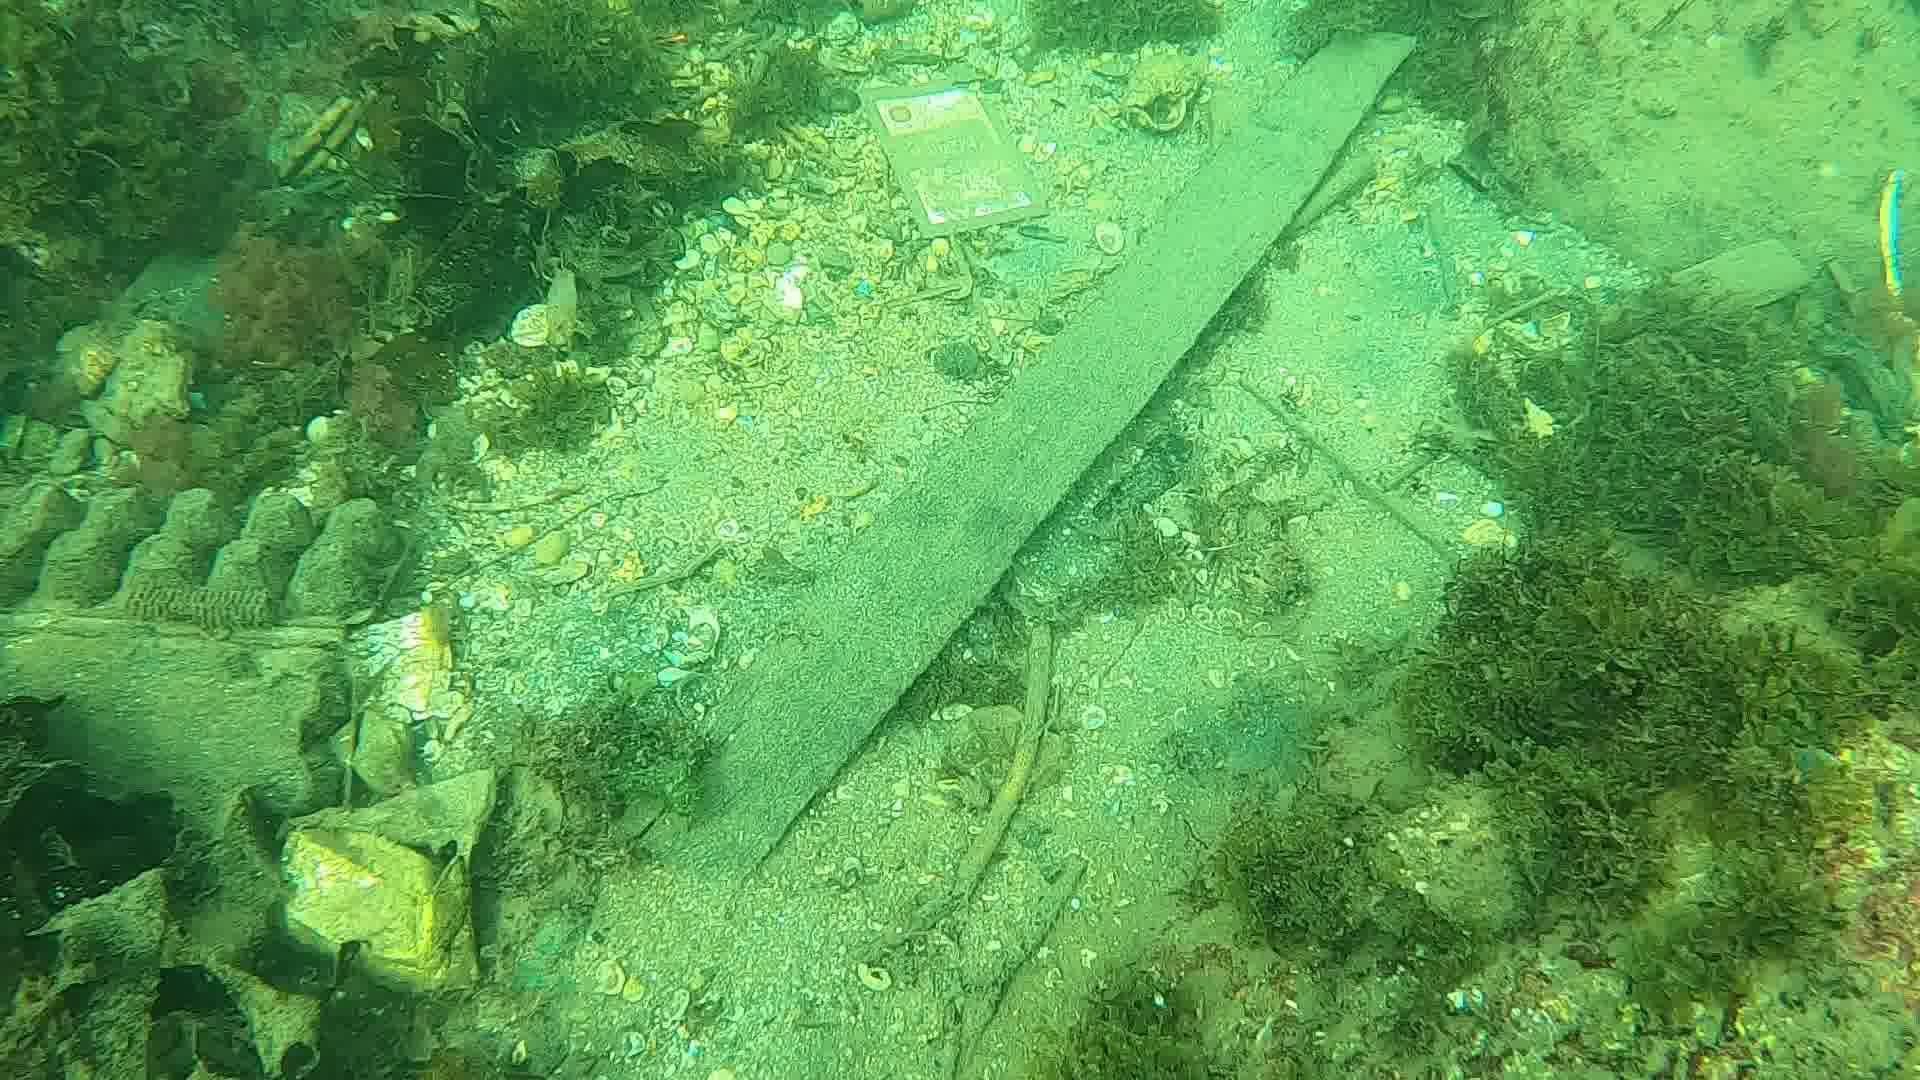wood: (611, 26, 1415, 882)
